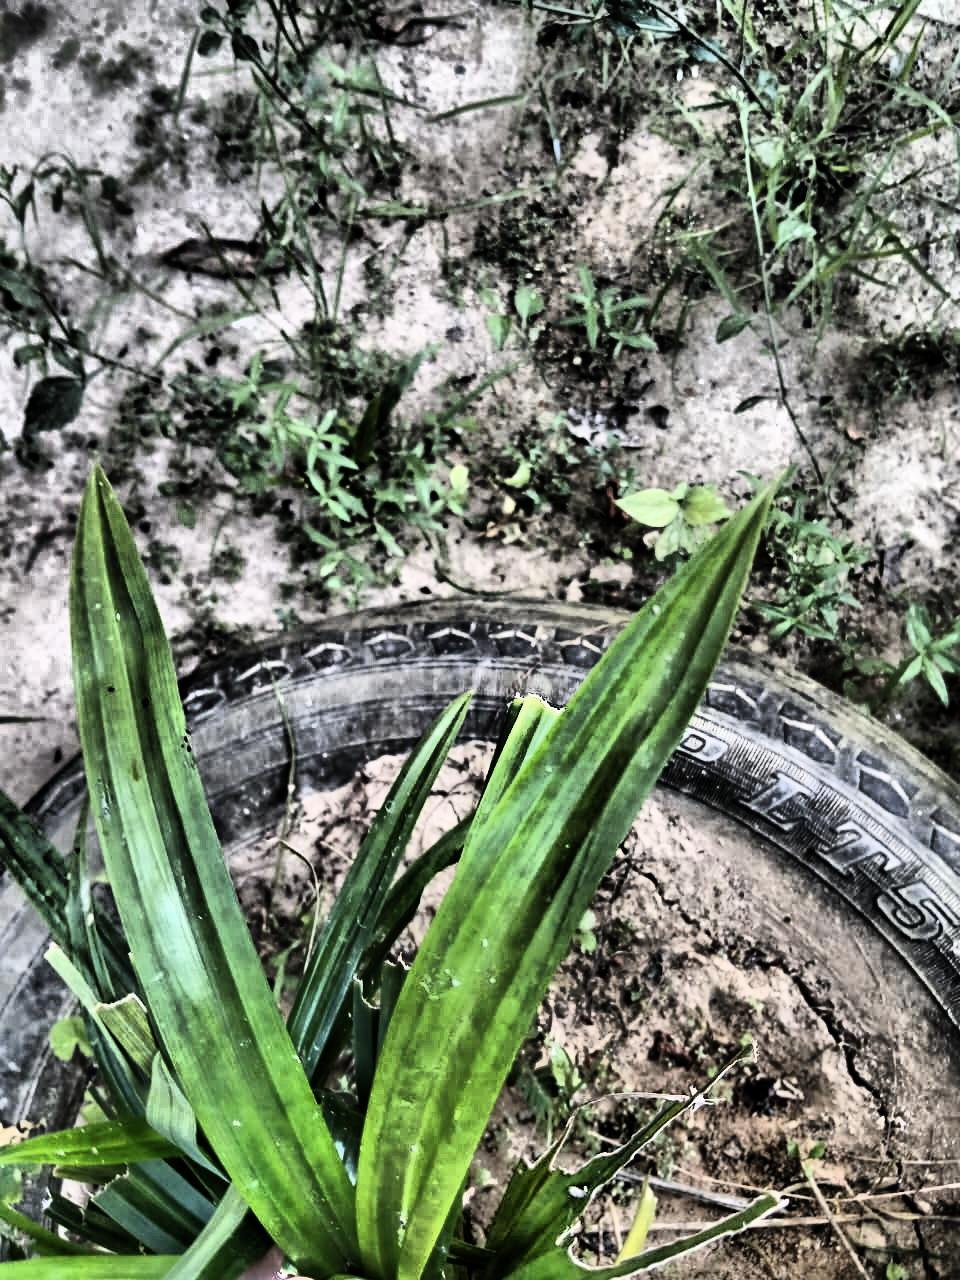daun pandan: (0, 468, 781, 1279)
